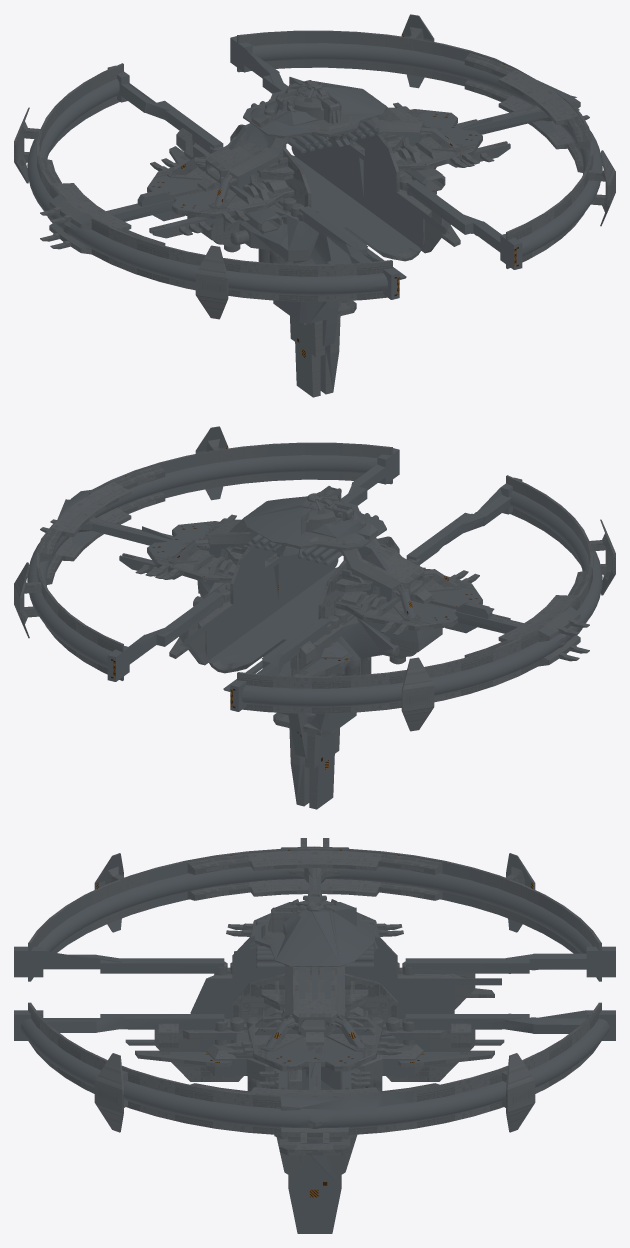
File: gangut.glb
The picture shows the model from 3 angles, top to bottom: view 1: azimuth 30°, elevation 25°; view 2: azimuth 150°, elevation 25°; view 3: azimuth 270°, elevation 25°; orthographic projection. The views are drawn at different scales.
Parts seen in each view (by area): view 1: lod0; view 2: lod0; view 3: lod0.
Boxes of the visible parts, <box> form: lod0: <box>14,14,615,397</box>; lod0: <box>14,426,615,809</box>; lod0: <box>14,838,615,1233</box>.
Size of what is drawn, in the model's own units: 450 by 245 by 412.
Materials: 1 (1 with a texture image).
